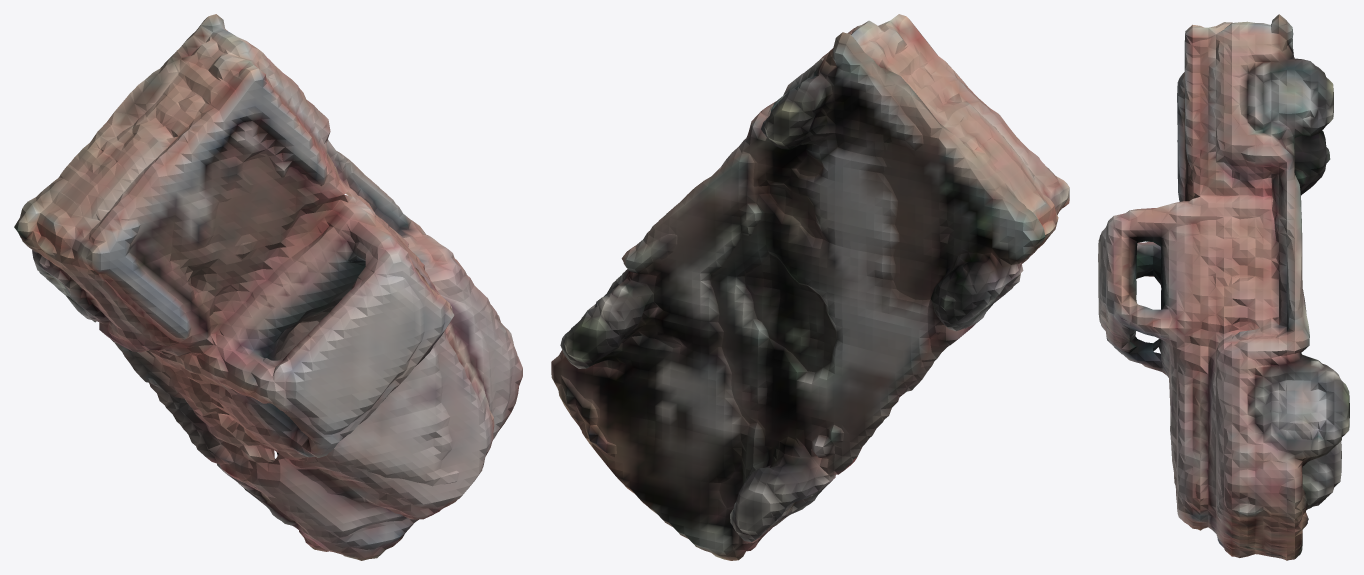
Rendered from 000003_us car_old_vintage_10240_128.glb.
3 views of the same model, side by side, from view 1: azimuth 30°, elevation 25°; view 2: azimuth 150°, elevation 25°; view 3: azimuth 270°, elevation 25° (orthographic). The views are drawn at different scales.
Parts seen in each view (by area): view 1: world; view 2: world; view 3: world.
Part boxes in pixels (bbox=[...]): world: bbox=[14, 14, 522, 560]; world: bbox=[551, 14, 1069, 560]; world: bbox=[1098, 14, 1349, 560].
Bounding box in the file's own units: 0.8605 × 0.9437 × 0.438.
